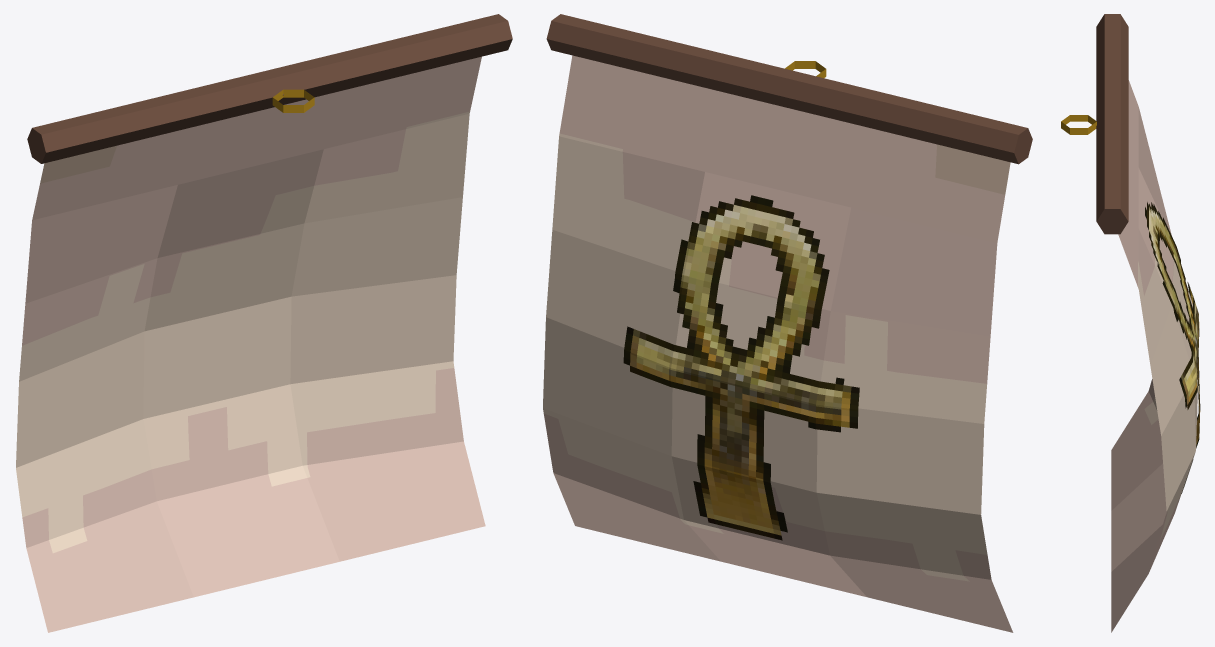
The model's file is ship_sail_open.gltf.
The picture shows the model from 3 angles, left to right: view 1: azimuth 30°, elevation 25°; view 2: azimuth 150°, elevation 25°; view 3: azimuth 270°, elevation 25°; orthographic projection. The views are drawn at different scales.
Visible parts, largest first — view 1: ship_sail_open; view 2: ship_sail_open; view 3: ship_sail_open.
Boxes of the visible parts, x1,y1,x2,y2 form: ship_sail_open: (16,14,512,632); ship_sail_open: (543,14,1032,632); ship_sail_open: (1061,14,1200,632).
Bounding box in the file's own units: 5.92 × 6.1 × 1.79.
1 material, 1 textured.
